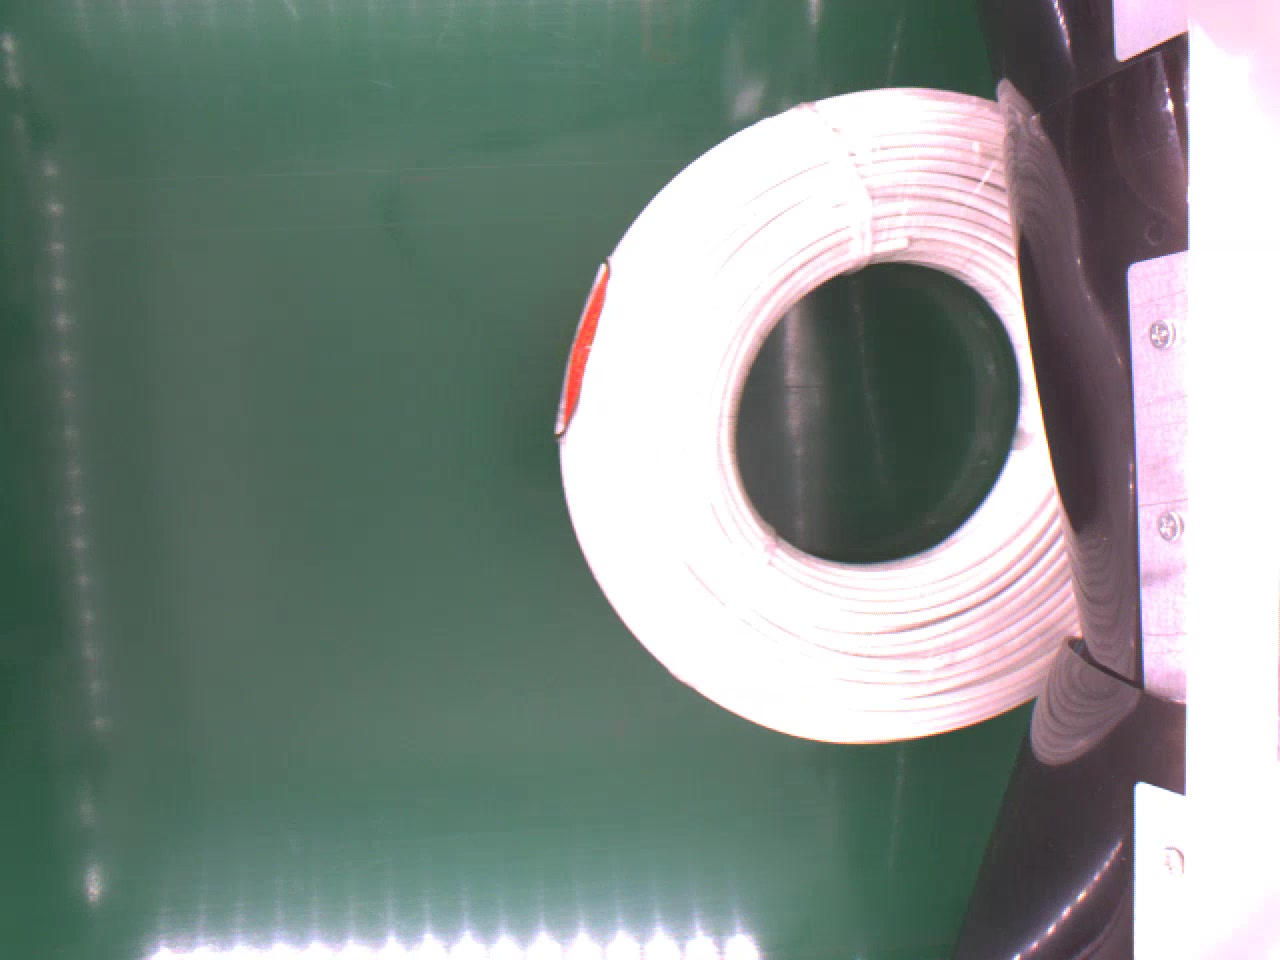white: (552, 84, 1080, 761)
